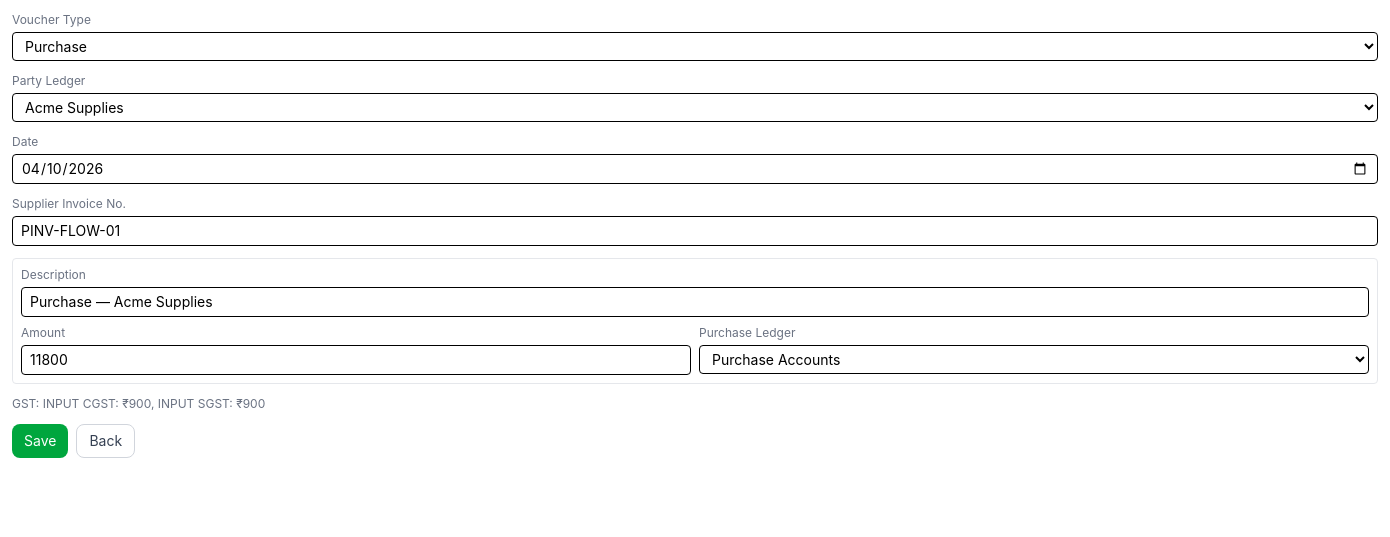
Test: VoucherEditForm — reclassify › shows the Against Invoice picker only after reclassifying to Debit Note
The width and height of the screenshot is (1390, 537).
Check: the field labelled "Against Invoice" is not shown
Select "Debit Note" in the dropdown labelled "Voucher Type": (695, 46) top-left (12, 32), bottom-right (1378, 61)
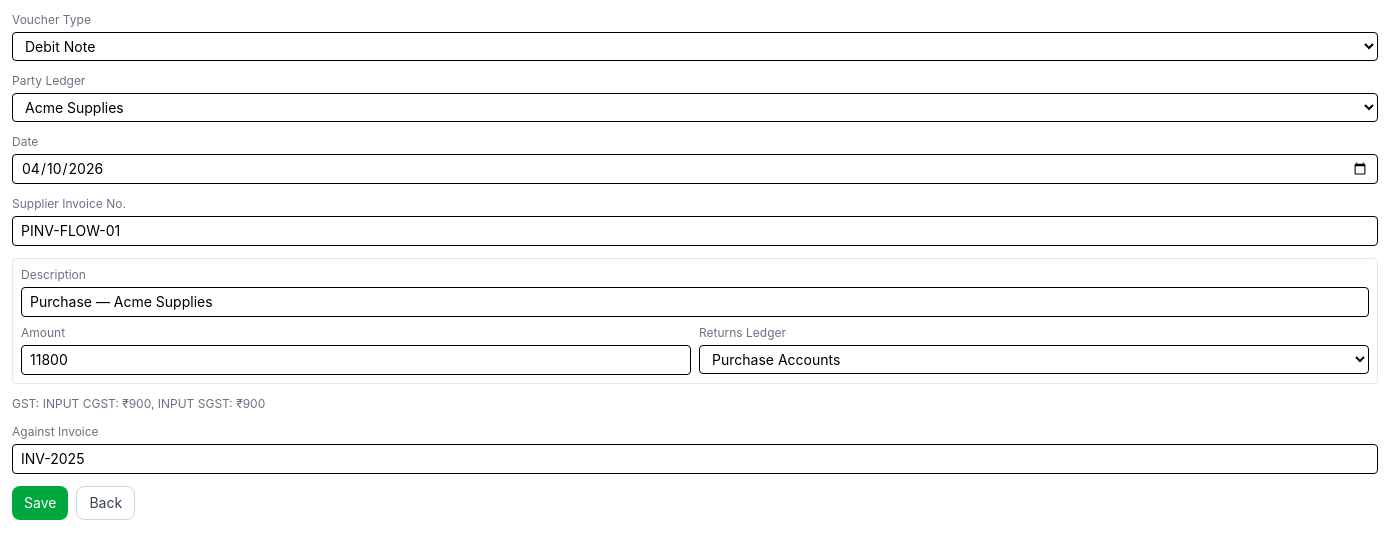
Check: the field labelled "Against Invoice" is shown, box top-left (12, 444), bottom-right (1378, 474)
